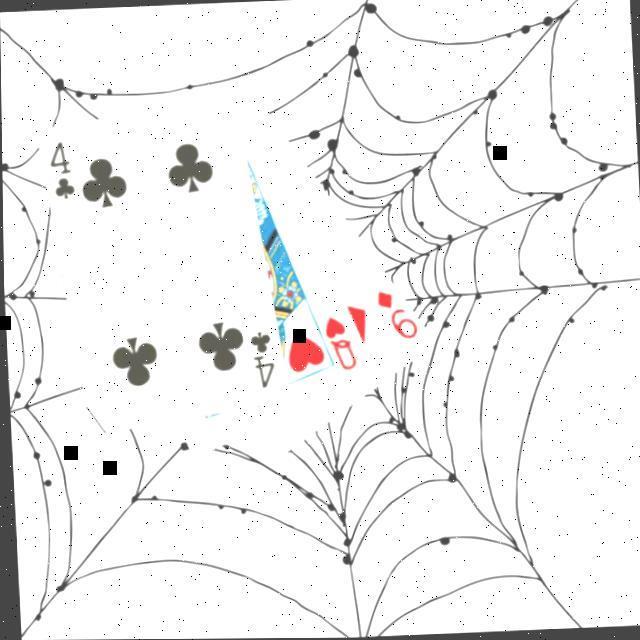4C: (42, 134, 76, 202), (244, 326, 276, 390)
9D: (369, 284, 418, 342)
QH: (318, 310, 358, 372)
